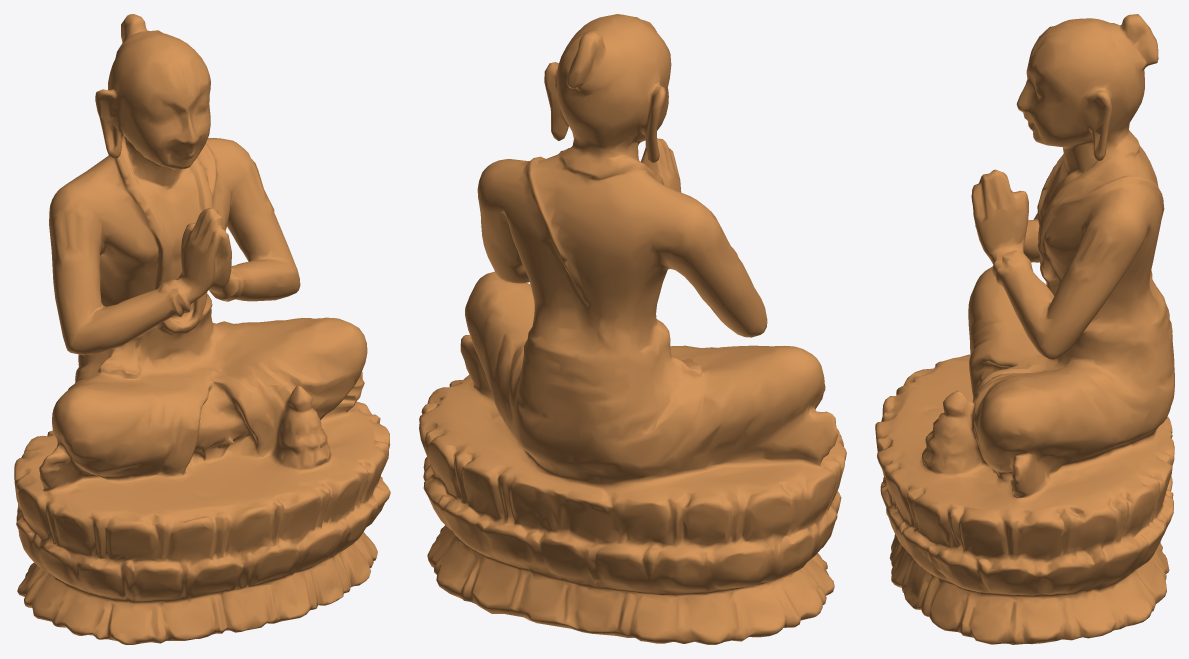
The model's file is Vainavam_Ramanujar_21.glb.
3 views of the same model, side by side, from view 1: azimuth 30°, elevation 25°; view 2: azimuth 150°, elevation 25°; view 3: azimuth 270°, elevation 25° (orthographic). The views are drawn at different scales.
Parts seen in each view (by area): view 1: Vainavam_Ramanujar_21; view 2: Vainavam_Ramanujar_21; view 3: Vainavam_Ramanujar_21.
Part boxes in pixels (box(x1,y1,x2,y2)): Vainavam_Ramanujar_21: box(14, 14, 390, 644); Vainavam_Ramanujar_21: box(419, 14, 846, 644); Vainavam_Ramanujar_21: box(875, 14, 1174, 644).
Bounding box in the file's own units: 0.3463 × 0.5087 × 0.2532.
